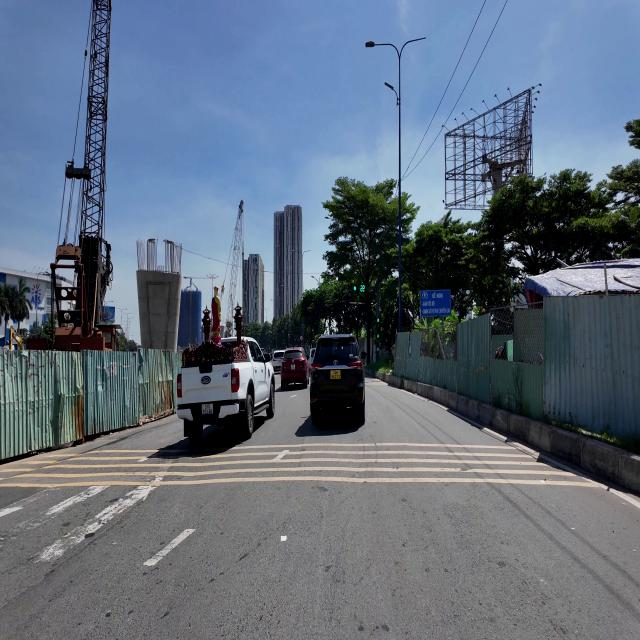car: (177, 337, 274, 443), (310, 335, 366, 424), (281, 348, 309, 389), (272, 350, 284, 373)
